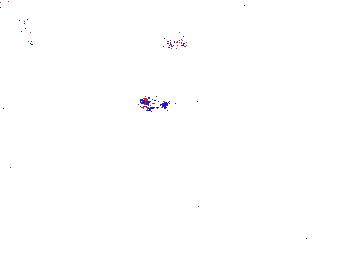red belly glassfish: (146, 34, 189, 52), (139, 94, 166, 113)
redtail glassfish: (1, 26, 41, 52), (1, 6, 35, 32)
